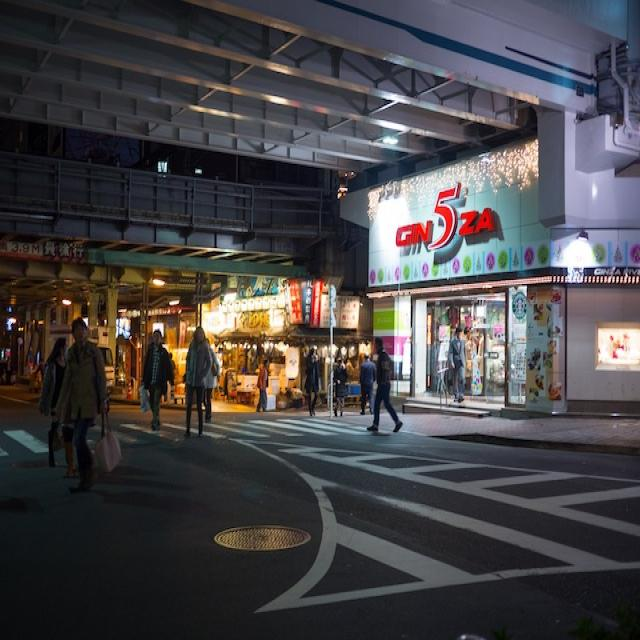body: (59, 316, 121, 496), (40, 332, 75, 496), (365, 336, 404, 435), (137, 326, 170, 434), (181, 324, 211, 441), (201, 336, 221, 424), (448, 327, 467, 404), (303, 342, 322, 418), (358, 351, 378, 416), (332, 356, 349, 419), (254, 355, 272, 412), (461, 319, 484, 357), (168, 351, 176, 397)
